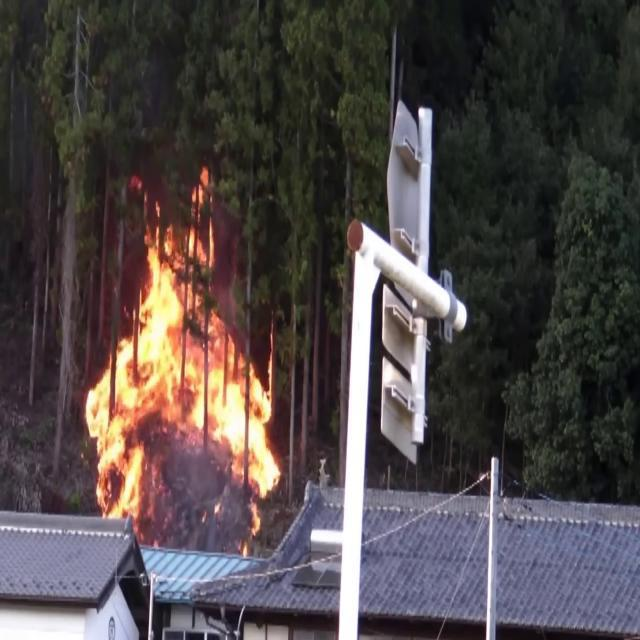Fire: (80, 180, 282, 530)
